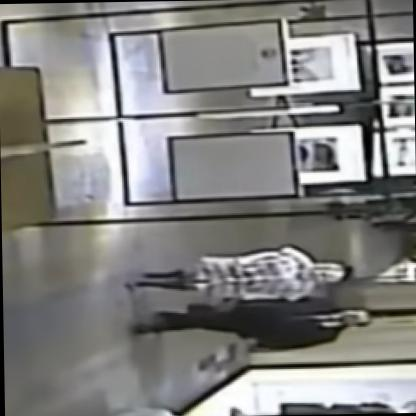Human Body: (129, 295, 374, 361), (122, 249, 348, 308)
